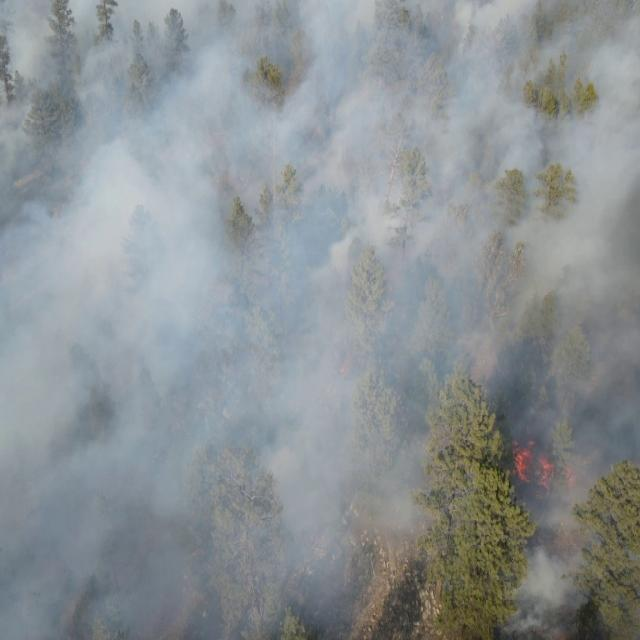fire: (514, 438, 580, 492), (338, 360, 354, 384)
smoke: (0, 0, 358, 640), (359, 0, 640, 530), (508, 530, 640, 640)
